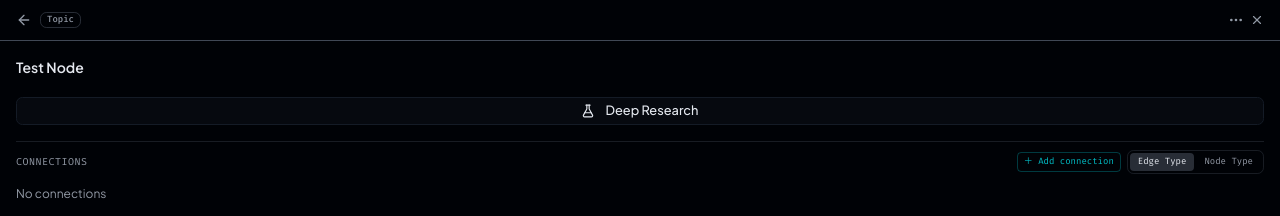
Test case: NodePreviewPanel – WatchButton › renders Unwatch item in dropdown when node is in watches list
The width and height of the screenshot is (1280, 216).
Expected: the text "Test Node" is shown, [16,58,84,76]
Click the button titled "More actions". click: (1236, 20)
box: [1228,12,1244,28]
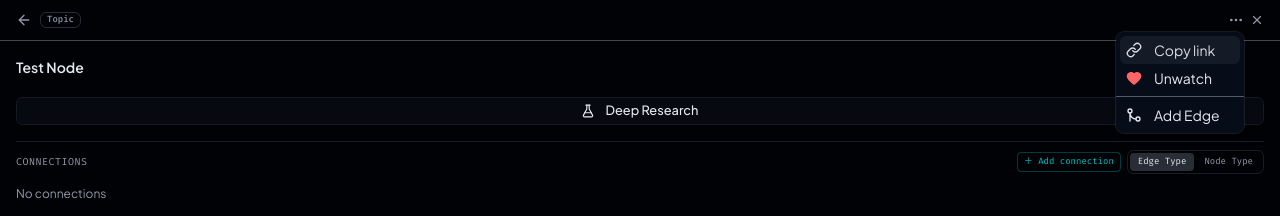
Now the menu item "Unwatch" is shown, box [1126,69,1212,87]
